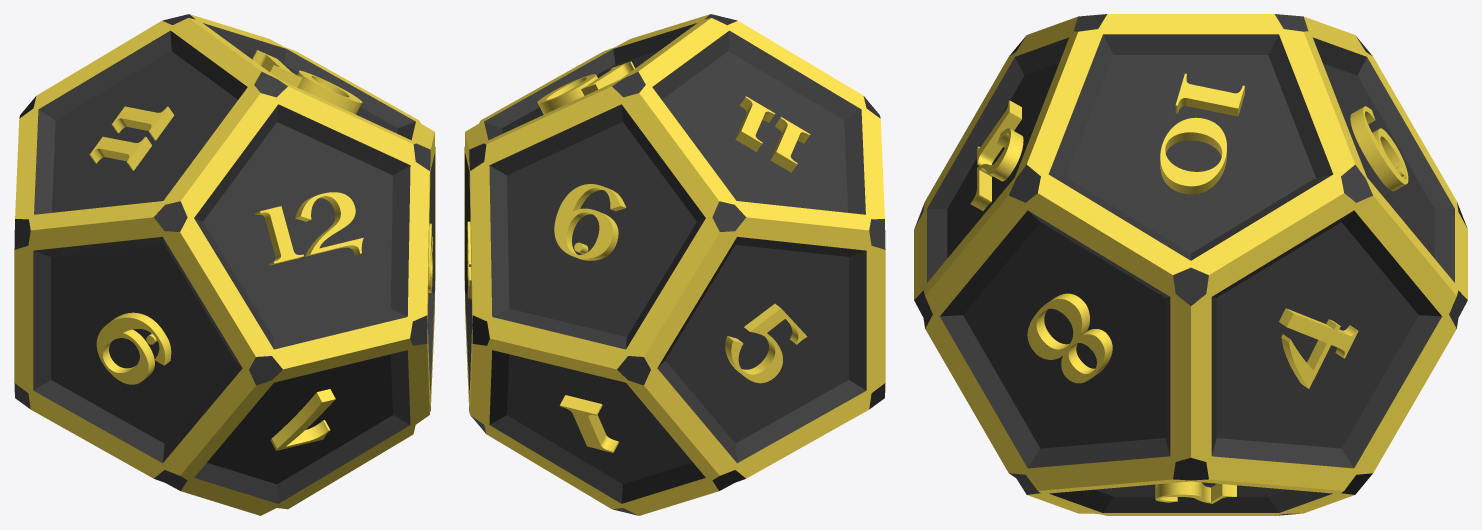
3 views of the same model, side by side, from view 1: azimuth 30°, elevation 25°; view 2: azimuth 150°, elevation 25°; view 3: azimuth 270°, elevation 25° (orthographic). The views are drawn at different scales.
Visible parts, largest first — view 1: d12, d12_face_12, d12_face_9, d12_face_11, d12_face_7, d12_face_10, d12_face_8; view 2: d12, d12_face_6, d12_face_5, d12_face_11, d12_face_1, d12_face_10, d12_face_4; view 3: d12, d12_face_10, d12_face_8, d12_face_4, d12_face_12, d12_face_6, d12_face_2.
Part boxes in pixels (bbox=[...]): d12: bbox=[14, 14, 434, 503]; d12_face_12: bbox=[180, 86, 429, 369]; d12_face_9: bbox=[14, 217, 255, 478]; d12_face_11: bbox=[15, 18, 261, 230]; d12_face_7: bbox=[180, 338, 429, 515]; d12_face_10: bbox=[189, 14, 434, 149]; d12_face_8: bbox=[427, 132, 435, 412]; d12: bbox=[465, 14, 885, 515]; d12_face_6: bbox=[470, 86, 719, 369]; d12_face_5: bbox=[644, 217, 885, 478]; d12_face_11: bbox=[638, 18, 884, 230]; d12_face_1: bbox=[470, 338, 719, 515]; d12_face_10: bbox=[465, 14, 710, 149]; d12_face_4: bbox=[464, 132, 472, 412]; d12: bbox=[914, 14, 1467, 515]; d12_face_10: bbox=[1027, 14, 1354, 274]; d12_face_8: bbox=[925, 193, 1190, 490]; d12_face_4: bbox=[1191, 193, 1456, 490]; d12_face_12: bbox=[914, 16, 1077, 299]; d12_face_6: bbox=[1304, 16, 1467, 299]; d12_face_2: bbox=[1027, 479, 1354, 515].
Size of the model in its own units: 1.87 by 1.87 by 1.87.
